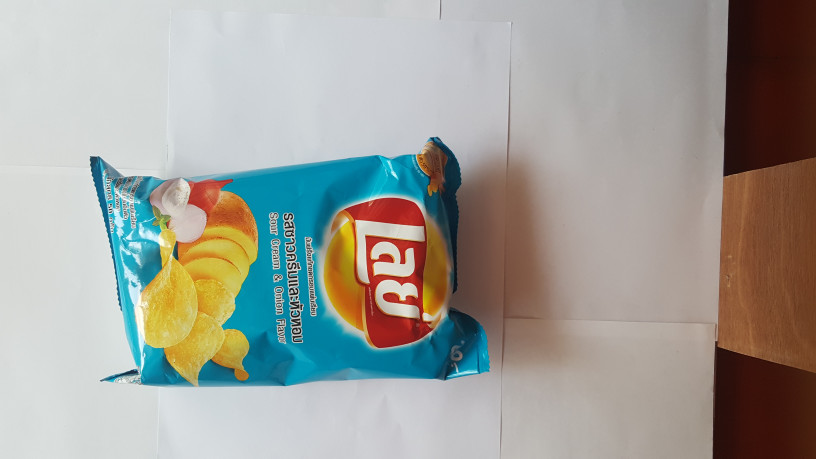lays-onion: (77, 140, 518, 406)
